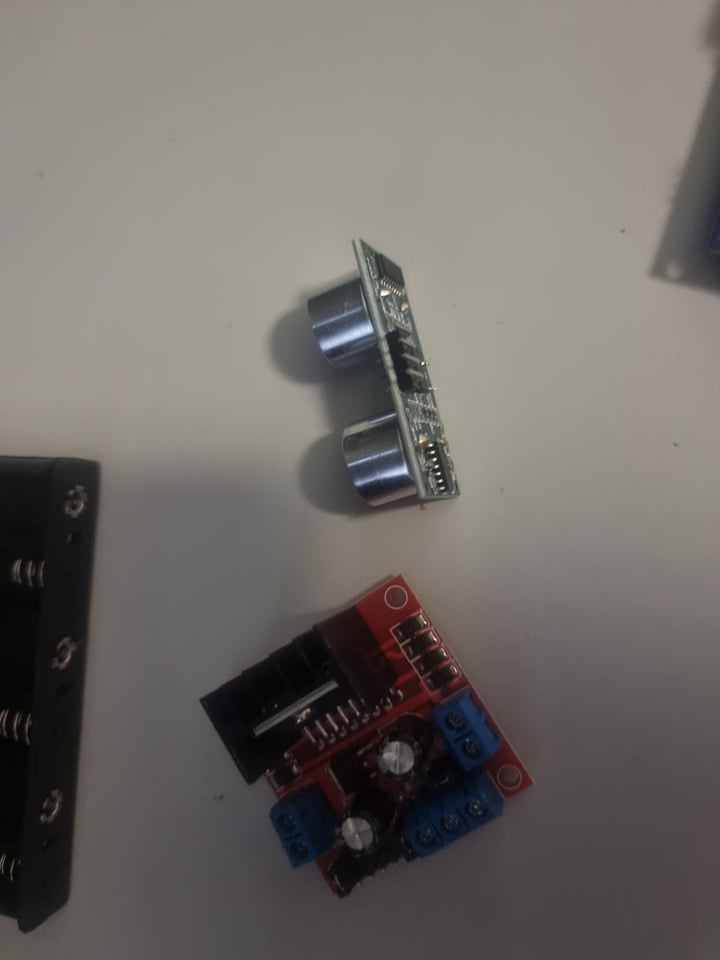BATTERY BOX: (0, 454, 117, 934)
MOTOR: (193, 574, 532, 899)
SENSOR: (302, 236, 471, 516)
